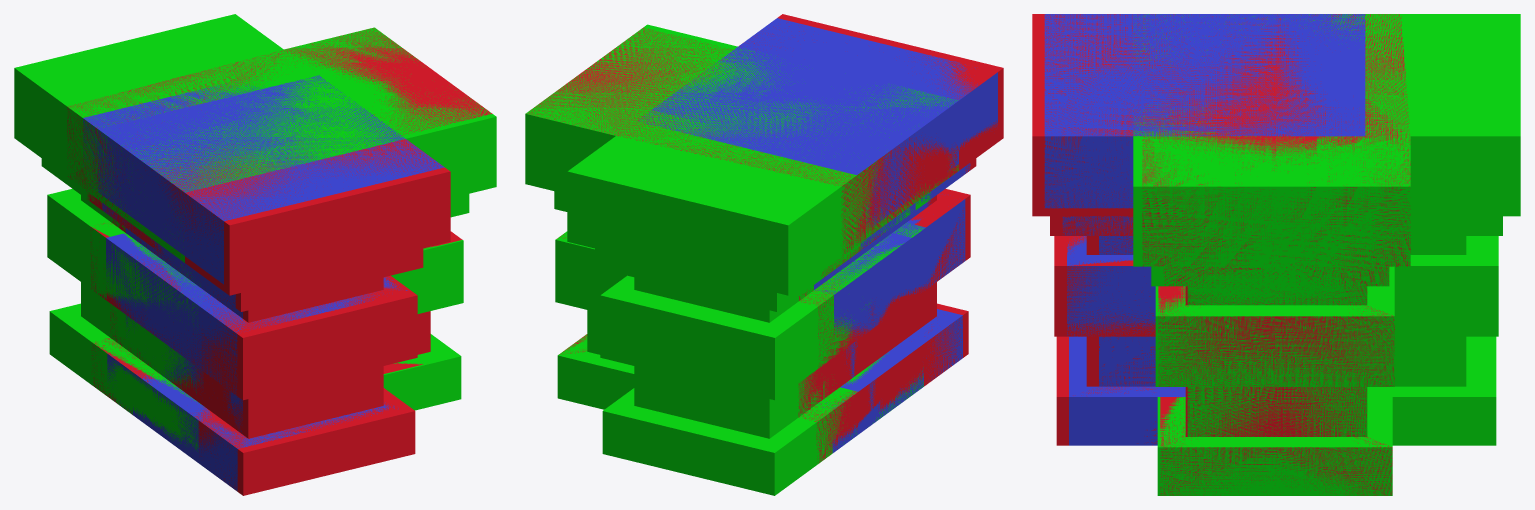
Rendered from Corners.fbx.
3 renders of one model, left to right at view 1: azimuth 30°, elevation 25°; view 2: azimuth 150°, elevation 25°; view 3: azimuth 270°, elevation 25°, orthographic. The views are drawn at different scales.
Visible parts, largest first — view 1: Corner_T, Corner_INT_EXT, Corner, Corner_InBetween, Corner_Finit; view 2: Corner_INT_EXT, Corner_T, Corner, Corner_InBetween, Corner_Finit; view 3: Corner_INT_EXT, Corner_T, Corner, Corner_Finit, Corner_InBetween.
Boxes of the visible parts, x1,y1,x2,y2 form: Corner_T: (67,28,492,495); Corner_INT_EXT: (14,14,496,451); Corner: (98,75,444,490); Corner_InBetween: (83,83,361,452); Corner_Finit: (83,82,405,461); Corner_INT_EXT: (525,24,958,495); Corner_T: (526,14,1003,462); Corner: (653,18,997,434); Corner_InBetween: (641,67,934,452); Corner_Finit: (639,47,958,451); Corner_INT_EXT: (1133,14,1520,495); Corner_T: (1032,14,1410,495); Corner: (1044,14,1330,445); Corner_Finit: (1133,14,1365,396); Corner_InBetween: (1187,14,1365,136).
Size of the model in its own units: 461 by 402 by 551.
